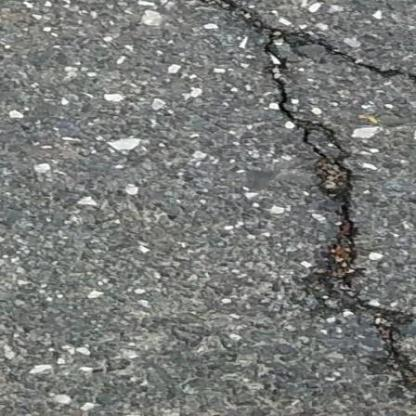Cracks: (294, 126, 416, 415), (193, 2, 416, 129)
